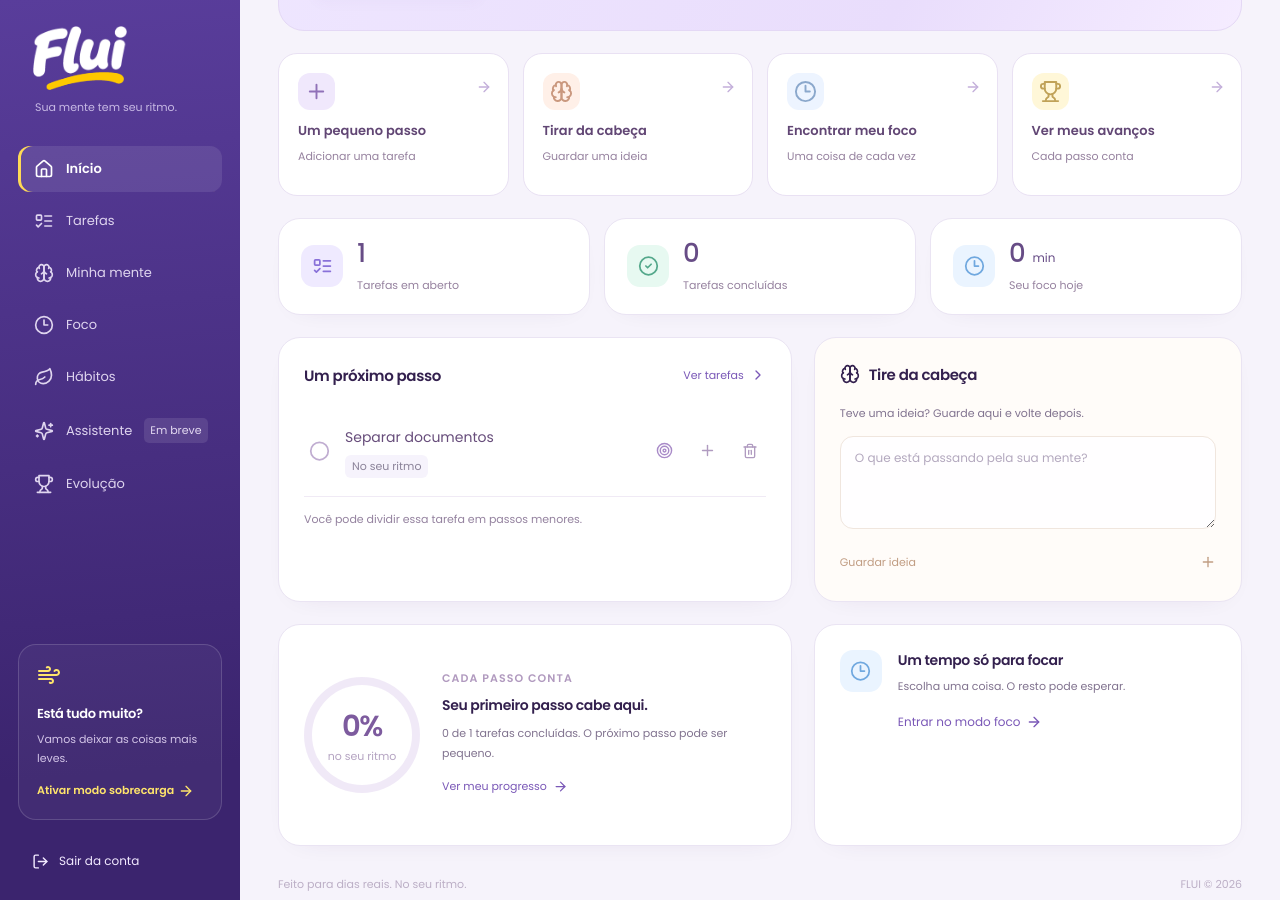
Scenario: Novas interações do espaço pessoal › leva a tarefa selecionada para o modo foco
The image size is (1280, 900).
(page scrolled)
Click the button named "Focar em Separar documentos". click: (664, 451)
box: [648, 434, 681, 467]
(page scrolled)
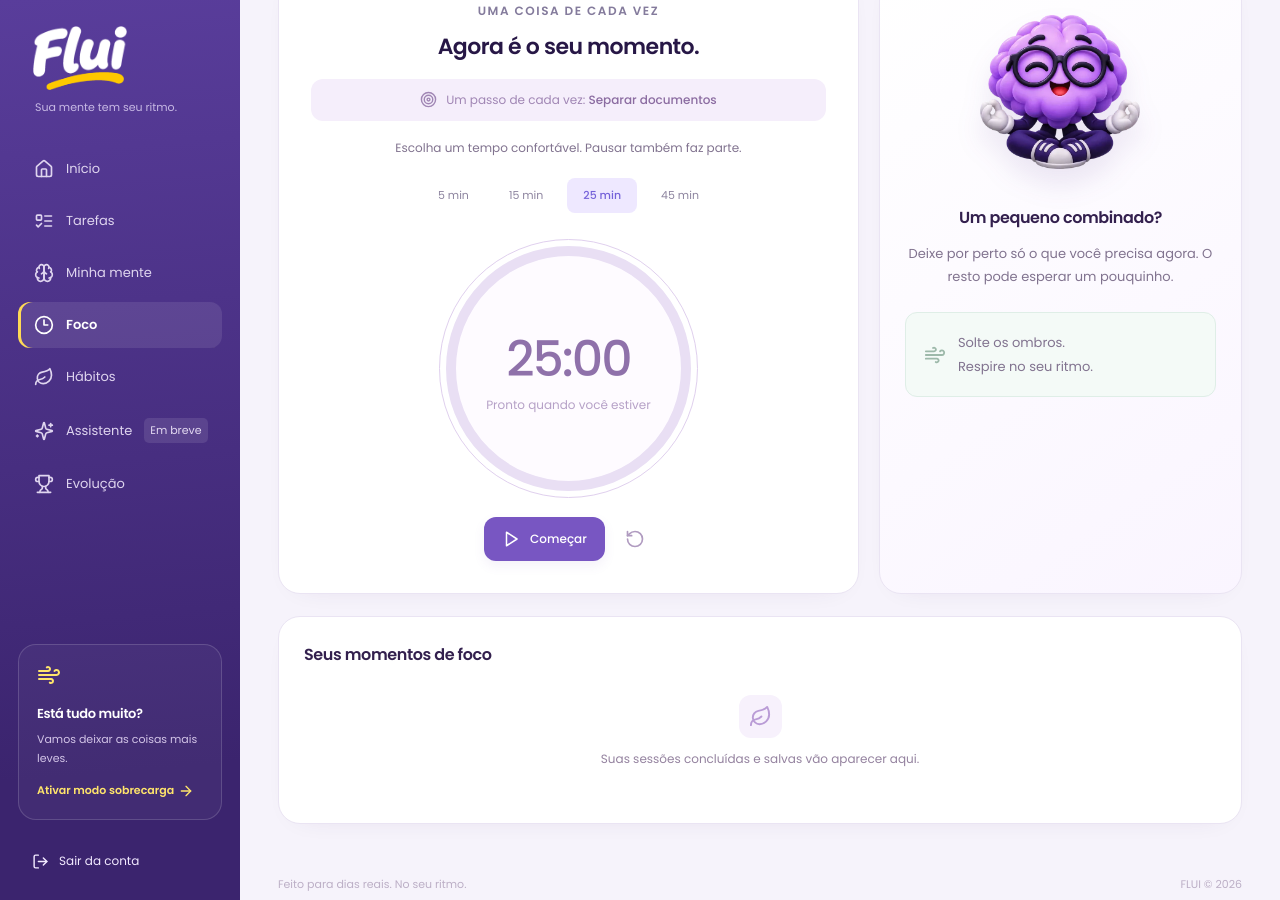
Check: the text "Separar documentos" is shown, box [588, 91, 717, 108]
Check: the text "Um passo de cada vez:" is shown, box [446, 91, 588, 108]
